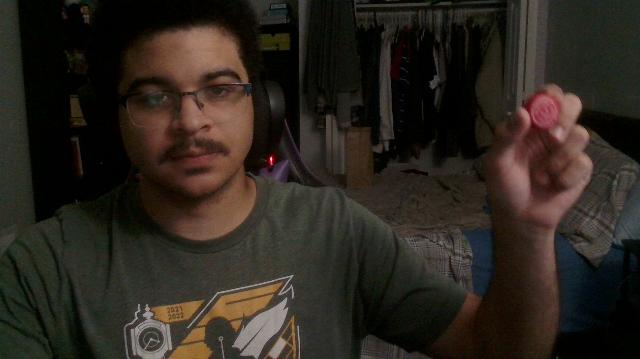cap: (526, 95, 560, 130)
